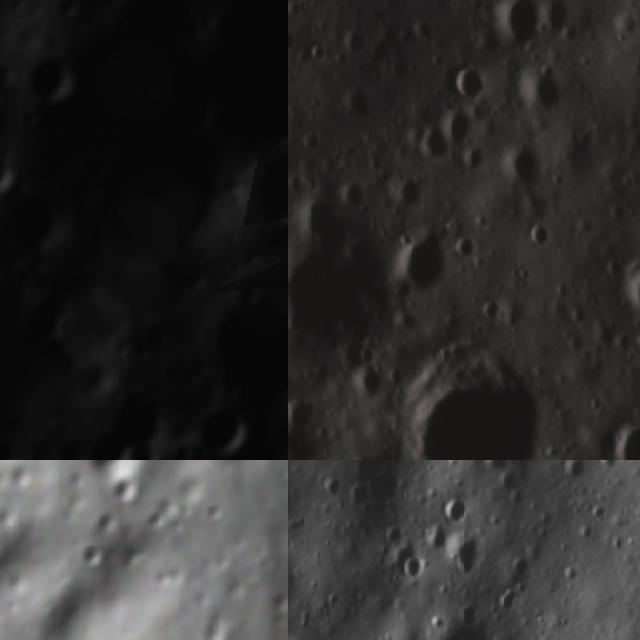crater: (288, 177, 423, 397), (366, 324, 563, 460), (177, 0, 288, 153), (203, 253, 288, 407), (112, 67, 234, 162), (0, 272, 88, 366), (77, 382, 176, 460), (102, 0, 203, 63), (384, 225, 461, 307), (0, 178, 74, 249), (17, 44, 90, 109), (185, 396, 258, 460), (238, 143, 288, 232), (480, 0, 547, 57), (607, 15, 640, 123), (511, 70, 569, 126), (498, 141, 548, 195), (77, 460, 148, 497), (611, 251, 640, 340), (346, 358, 392, 414), (597, 406, 640, 460), (443, 62, 491, 110), (288, 384, 327, 442), (534, 0, 583, 44), (411, 121, 455, 168), (448, 532, 486, 586), (516, 216, 561, 260), (392, 167, 432, 215), (331, 175, 375, 218), (334, 84, 374, 130), (0, 136, 28, 196), (336, 19, 373, 62), (193, 494, 230, 537), (448, 228, 486, 268), (416, 622, 492, 640), (454, 142, 492, 177), (472, 290, 506, 328), (440, 109, 474, 147), (70, 539, 110, 571), (395, 556, 431, 590), (441, 501, 468, 528)
